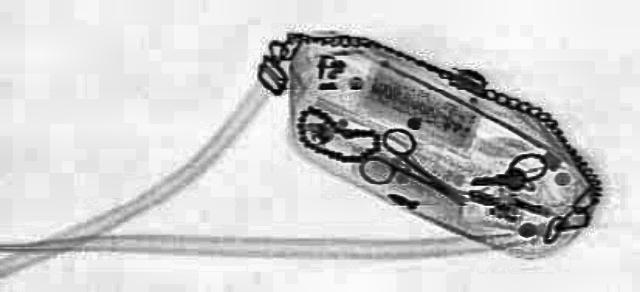Scissors: (314, 124, 502, 212)
